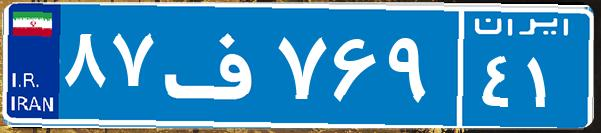1: (525, 38, 570, 115)
4: (475, 38, 525, 113)
6: (330, 28, 385, 110)
7: (273, 28, 330, 110), (110, 28, 158, 105)
8: (57, 26, 110, 107)
9: (385, 28, 445, 110)
ف: (158, 15, 273, 115)
